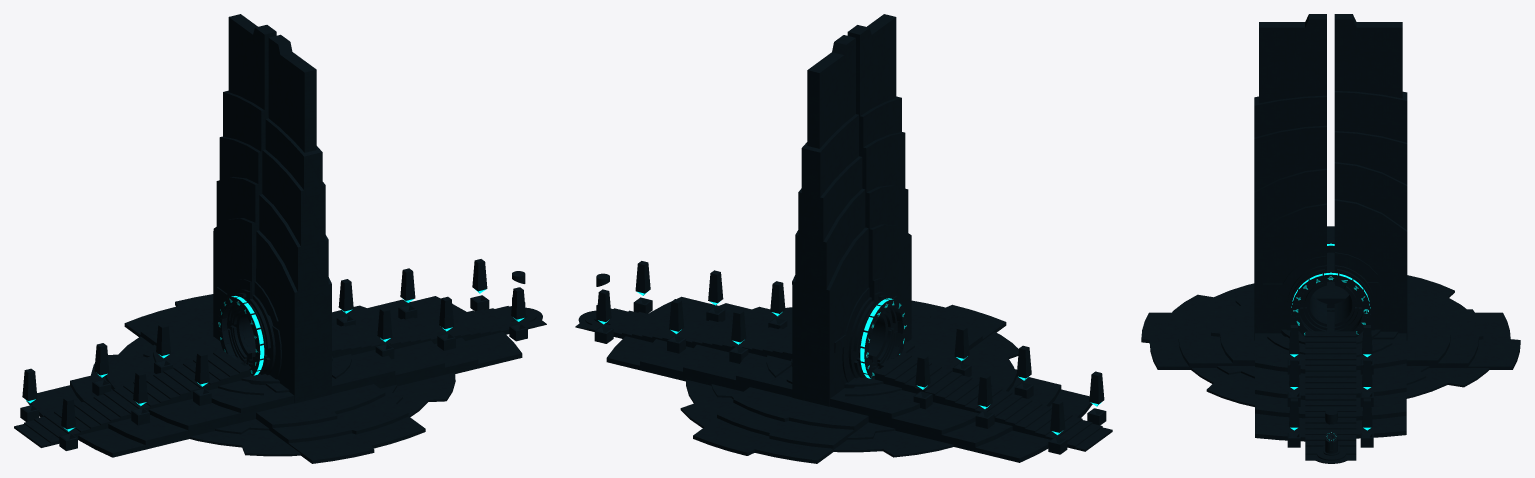
The model's file is skyportal.glb.
The picture shows the model from 3 angles, left to right: view 1: azimuth 30°, elevation 25°; view 2: azimuth 150°, elevation 25°; view 3: azimuth 270°, elevation 25°; orthographic projection. The views are drawn at different scales.
Parts seen in each view (by area): view 1: Cylinder009, Box005, Tube004, Tube015; view 2: Cylinder009, Box005, Tube004, Tube015; view 3: Box005, Cylinder009, Tube004, Tube007.
Part boxes in pixels (x1=…): Cylinder009: x1=14, y1=294, x2=546, y2=463; Box005: x1=213, y1=14, x2=331, y2=403; Tube004: x1=216, y1=279, x2=281, y2=379; Tube015: x1=218, y1=296, x2=264, y2=375; Cylinder009: x1=575, y1=296, x2=1112, y2=463; Box005: x1=792, y1=14, x2=911, y2=406; Tube004: x1=834, y1=278, x2=898, y2=382; Tube015: x1=859, y1=299, x2=906, y2=378; Box005: x1=1254, y1=14, x2=1407, y2=340; Cylinder009: x1=1141, y1=226, x2=1520, y2=463; Tube004: x1=1263, y1=252, x2=1383, y2=331; Tube007: x1=1291, y1=272, x2=1370, y2=336.
Size of the model in its own units: 5.45 by 3.51 by 3.7.
Materials: 3 (2 with a texture image).
